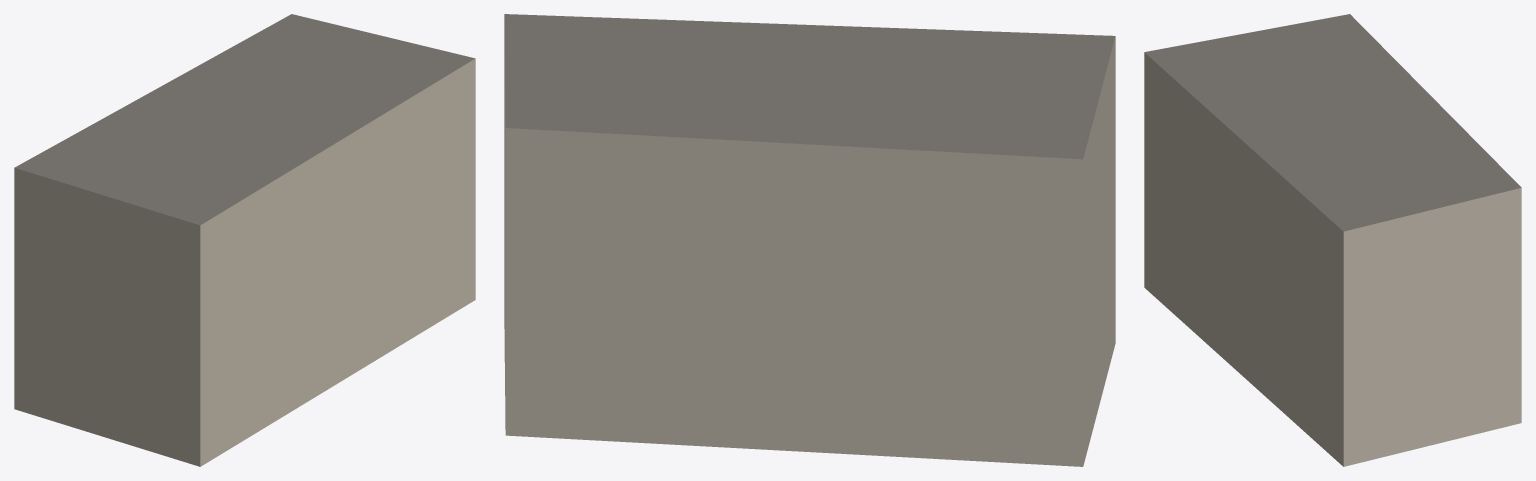
3 renders of one model, left to right at view 1: azimuth 30°, elevation 25°; view 2: azimuth 150°, elevation 25°; view 3: azimuth 270°, elevation 25°, orthographic. The views are drawn at different scales.
Visible parts, largest first — view 1: HP-w505661358; view 2: HP-w505661358; view 3: HP-w505661358.
Part boxes in pixels (x1,y1,x2,y2): HP-w505661358: (14, 14, 475, 466); HP-w505661358: (504, 14, 1115, 466); HP-w505661358: (1144, 14, 1521, 466).
Bounding box in the file's own units: 23.8 × 12 × 17.45.
